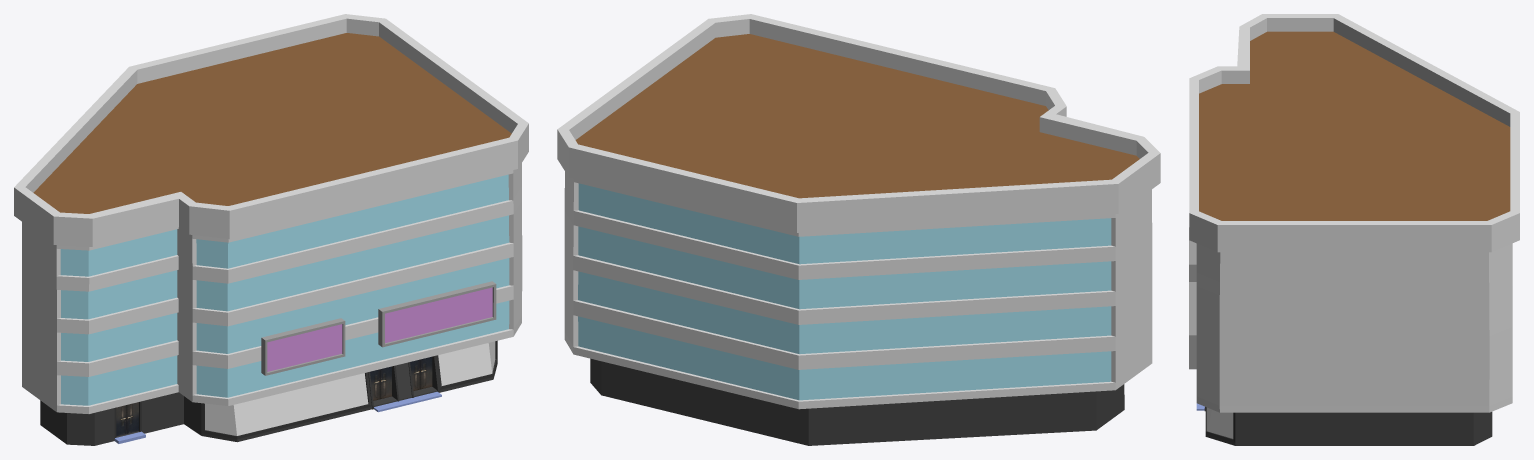
Rendered from storefront_angled.fbx.
3 views of the same model, side by side, from view 1: azimuth 30°, elevation 25°; view 2: azimuth 150°, elevation 25°; view 3: azimuth 270°, elevation 25° (orthographic). The views are drawn at different scales.
Visible parts, largest first — view 1: storefront_h.002; view 2: storefront_h.002; view 3: storefront_h.002.
Part boxes in pixels (x1,y1,x2,y2): storefront_h.002: (14, 14, 528, 445); storefront_h.002: (557, 14, 1160, 445); storefront_h.002: (1189, 14, 1519, 445).
Bounding box in the file's own units: 3328 × 1700 × 2205.
